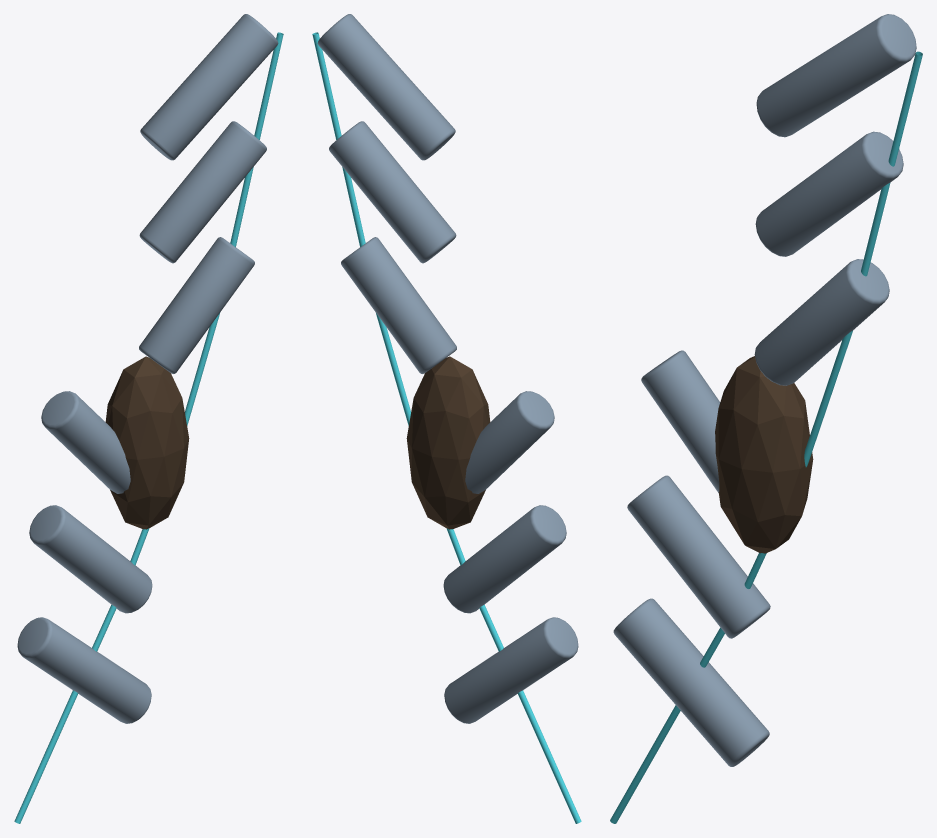
The model's file is bow_v6.glb.
3 renders of one model, left to right at view 1: azimuth 30°, elevation 25°; view 2: azimuth 150°, elevation 25°; view 3: azimuth 330°, elevation 25°, orthographic. The views are drawn at different scales.
Parts seen in each view (by area): view 1: BONE_GRIP_SECONDARY, BONE_LIMB_PRIMARY.005, BONE_LIMB_PRIMARY.004, BONE_LIMB_PRIMARY, BONE_LIMB_PRIMARY.003, BONE_LIMB_PRIMARY.001, BONE_LIMB_PRIMARY.002, BONE_BOW_STRING_ACCENT; view 2: BONE_GRIP_SECONDARY, BONE_LIMB_PRIMARY.005, BONE_LIMB_PRIMARY.004, BONE_LIMB_PRIMARY, BONE_LIMB_PRIMARY.003, BONE_LIMB_PRIMARY.001, BONE_LIMB_PRIMARY.002, BONE_BOW_STRING_ACCENT; view 3: BONE_GRIP_SECONDARY, BONE_LIMB_PRIMARY, BONE_LIMB_PRIMARY.001, BONE_LIMB_PRIMARY.005, BONE_LIMB_PRIMARY.004, BONE_LIMB_PRIMARY.003, BONE_LIMB_PRIMARY.002, BONE_BOW_STRING_ACCENT.
Part boxes in pixels (box(x1,y1,x2,y2)): BONE_GRIP_SECONDARY: box(105, 356, 189, 529); BONE_LIMB_PRIMARY.005: box(140, 14, 278, 160); BONE_LIMB_PRIMARY.004: box(139, 121, 266, 263); BONE_LIMB_PRIMARY: box(17, 617, 151, 723); BONE_LIMB_PRIMARY.003: box(139, 237, 254, 373); BONE_LIMB_PRIMARY.001: box(29, 505, 152, 613); BONE_LIMB_PRIMARY.002: box(41, 391, 130, 493); BONE_BOW_STRING_ACCENT: box(14, 32, 283, 823); BONE_GRIP_SECONDARY: box(406, 356, 490, 529); BONE_LIMB_PRIMARY.005: box(317, 14, 455, 160); BONE_LIMB_PRIMARY.004: box(329, 121, 456, 263); BONE_LIMB_PRIMARY: box(444, 617, 578, 723); BONE_LIMB_PRIMARY.003: box(341, 237, 456, 373); BONE_LIMB_PRIMARY.001: box(443, 505, 566, 613); BONE_LIMB_PRIMARY.002: box(465, 391, 554, 493); BONE_BOW_STRING_ACCENT: box(312, 32, 581, 823); BONE_GRIP_SECONDARY: box(715, 356, 813, 553); BONE_LIMB_PRIMARY: box(613, 598, 769, 766); BONE_LIMB_PRIMARY.001: box(627, 475, 770, 638); BONE_LIMB_PRIMARY.005: box(756, 14, 916, 137); BONE_LIMB_PRIMARY.004: box(755, 131, 903, 256); BONE_LIMB_PRIMARY.003: box(754, 259, 889, 385); BONE_LIMB_PRIMARY.002: box(641, 350, 720, 492); BONE_BOW_STRING_ACCENT: box(610, 51, 922, 823).
Bounding box in the file's own units: 1.36 × 3.63 × 0.32.
